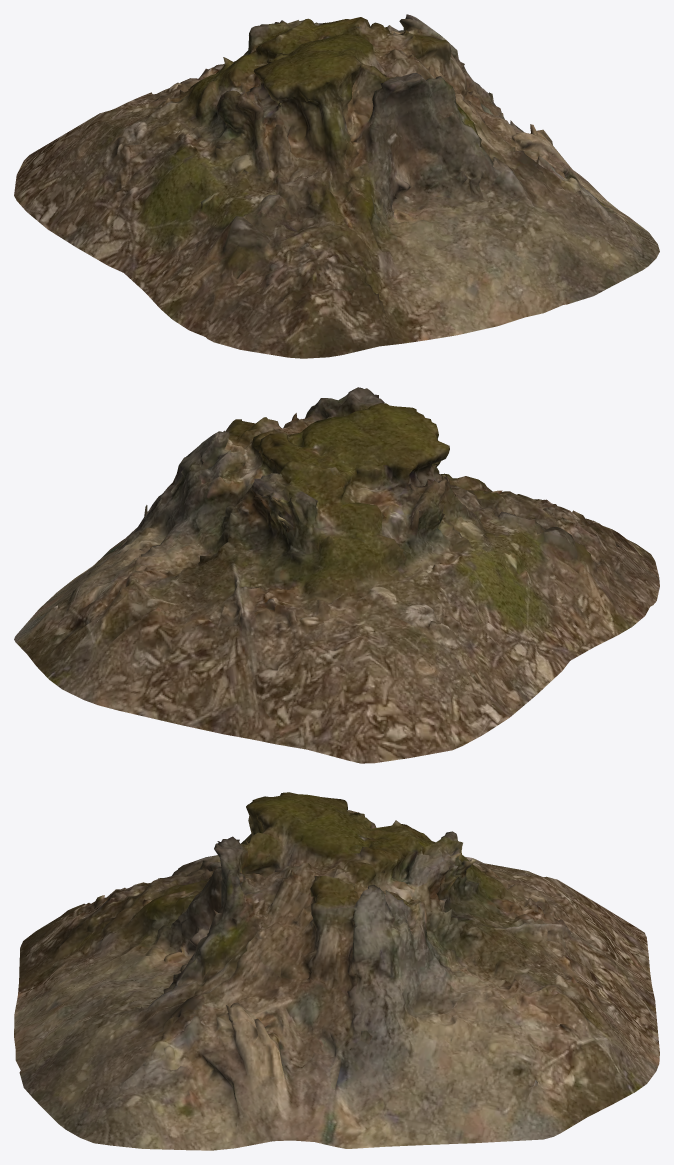
Rendered from tree_stump.glb.
3 views of the same model, one above another, from view 1: azimuth 30°, elevation 25°; view 2: azimuth 150°, elevation 25°; view 3: azimuth 270°, elevation 25° (orthographic). The views are drawn at different scales.
Visible parts, largest first — view 1: tree_stump_01; view 2: tree_stump_01; view 3: tree_stump_01.
Part boxes in pixels (left/top/right/bottom): tree_stump_01: left=14, top=14, right=659, bottom=358; tree_stump_01: left=14, top=387, right=659, bottom=763; tree_stump_01: left=14, top=792, right=659, bottom=1150.
Size of the model in its own units: 1.43 by 0.5725 by 1.59.
1 material, 1 textured.
